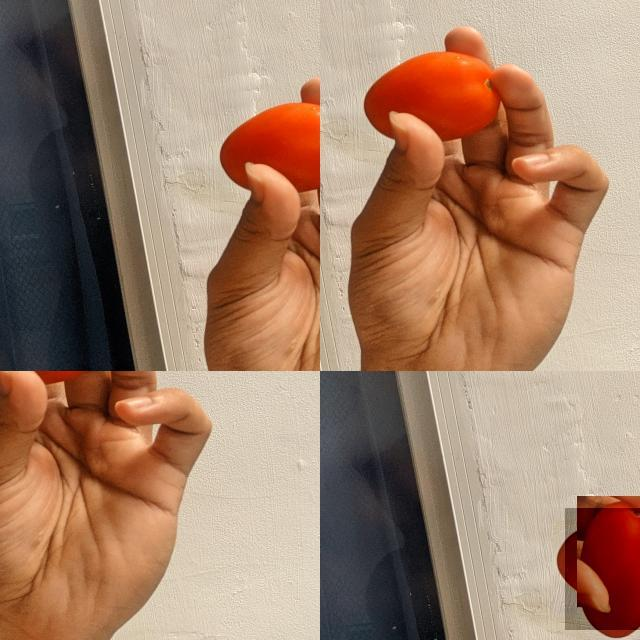Fresh Tomato: (564, 508, 640, 629)
